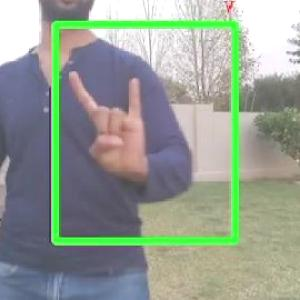takeoff-hand: (62, 61, 157, 183)
